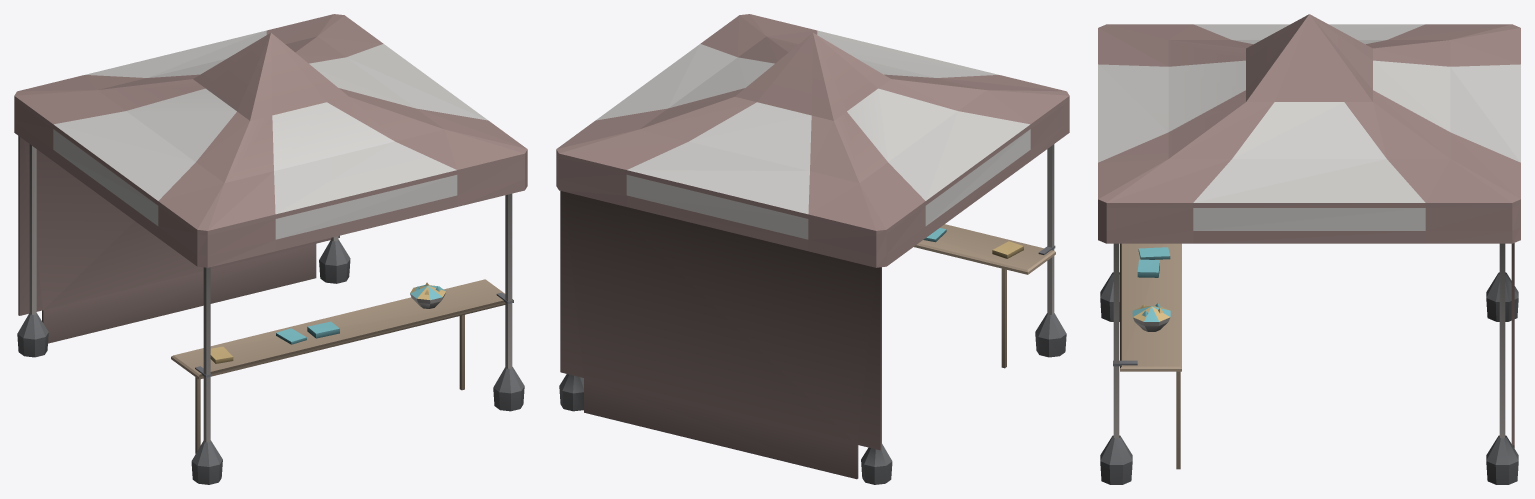
The model's file is tent.glb.
3 views of the same model, side by side, from view 1: azimuth 30°, elevation 25°; view 2: azimuth 150°, elevation 25°; view 3: azimuth 270°, elevation 25° (orthographic). The views are drawn at different scales.
Parts seen in each view (by area): view 1: tent; view 2: tent; view 3: tent.
Boxes of the visible parts, x1,y1,x2,y2 form: tent: (14, 14, 527, 484); tent: (556, 14, 1069, 484); tent: (1098, 14, 1520, 484).
Bounding box in the file's own units: 3.6 × 3.6 × 3.6.
